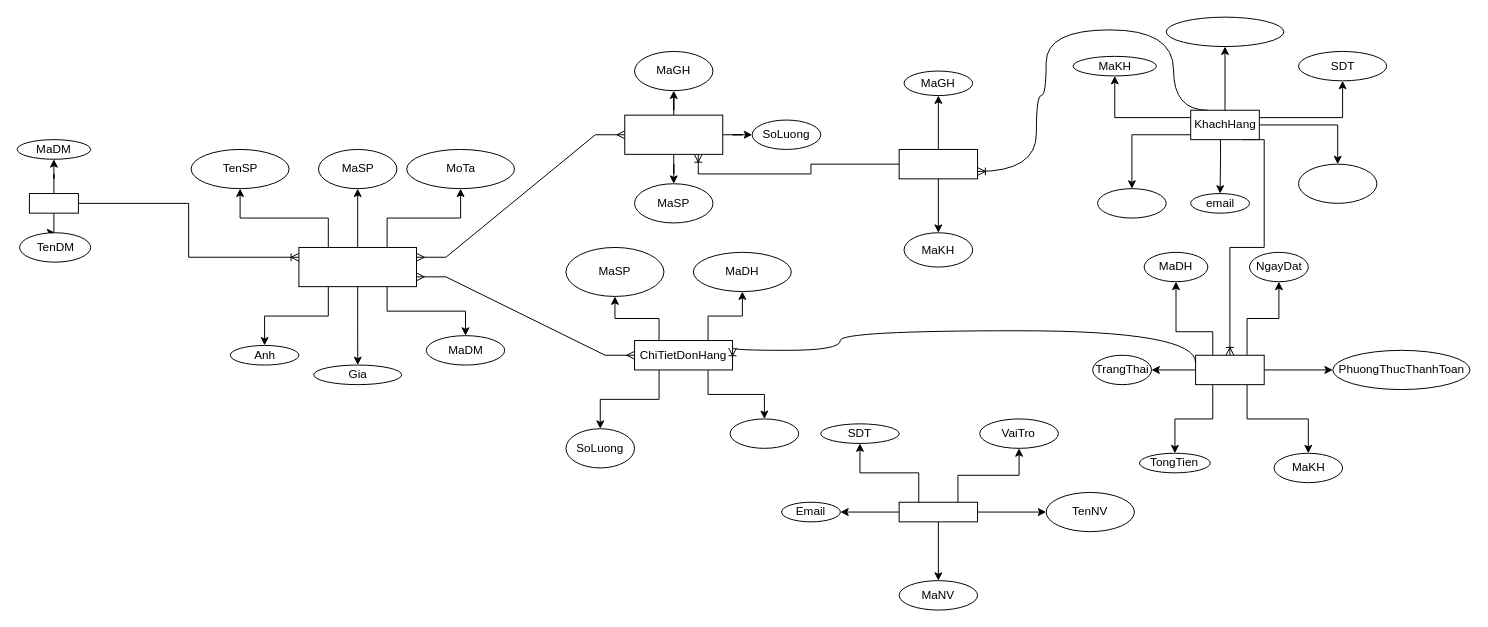
This 1488x627 diagram has some shape labels left out. Here are the shapes that lost their labels. From the top down, the centre of each, then its label:
the point at 1224,31: TenKH
the point at 673,134: ChiTietGioHang
the point at 938,163: GioHang
the point at 1337,183: MatKhau
the point at 53,203: DanhMuc
the point at 1131,203: DiaChi
the point at 357,266: SanPham
the point at 1229,369: DonHang
the point at 764,433: DonGIa
the point at 938,511: NhanVien
